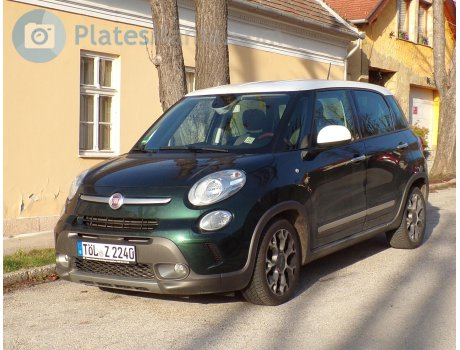License Plates: (82, 240, 131, 259)
